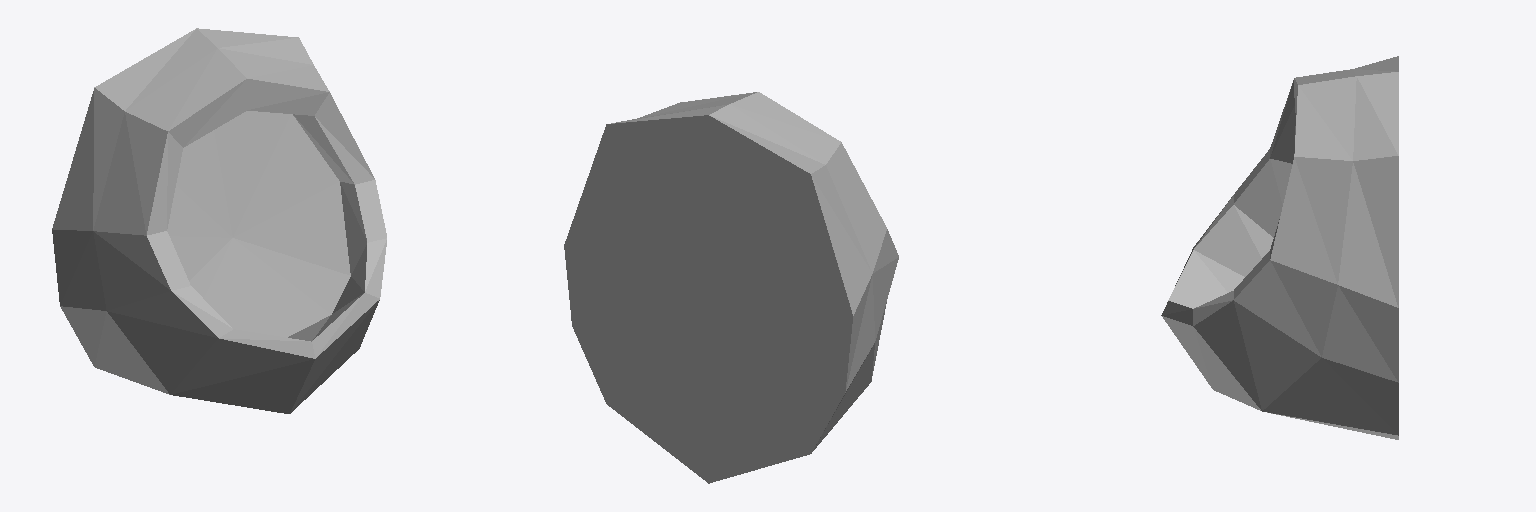
The model's file is piszoar.obj.
3 renders of one model, left to right at view 1: azimuth 30°, elevation 25°; view 2: azimuth 150°, elevation 25°; view 3: azimuth 270°, elevation 25°, orthographic.
Visible parts, largest first — view 1: piszoar; view 2: piszoar; view 3: piszoar.
Part boxes in pixels (left/top/right/bottom): piszoar: left=52, top=28, right=386, bottom=413; piszoar: left=564, top=92, right=898, bottom=483; piszoar: left=1161, top=56, right=1398, bottom=439.
Size of the model in its own units: 32.99 by 40.16 by 23.43.